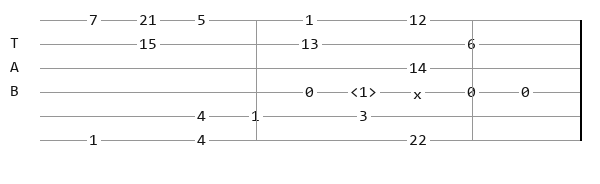0: (305, 85, 318, 99), (467, 85, 480, 99), (521, 85, 534, 99)
1: (89, 133, 102, 147), (251, 109, 264, 123), (305, 13, 318, 27)
12: (409, 13, 431, 27)
13: (301, 37, 323, 51)
14: (409, 61, 431, 75)
15: (139, 37, 161, 51)
21: (139, 13, 161, 27)
22: (409, 133, 431, 147)
3: (359, 109, 372, 123)
4: (197, 133, 210, 147), (197, 109, 210, 123)
5: (197, 13, 210, 27)
6: (467, 37, 480, 51)
7: (89, 13, 102, 27)
harmonic: (350, 85, 381, 99)
x: (413, 87, 426, 98)
